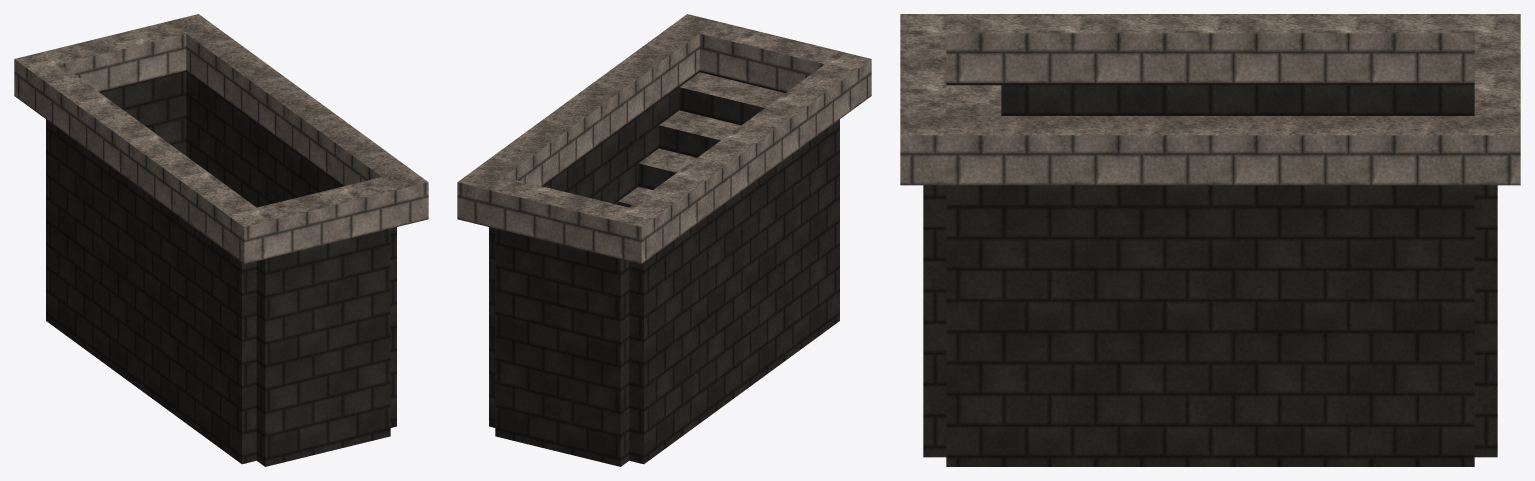
The model's file is stairs-down-deep.glb.
3 renders of one model, left to right at view 1: azimuth 30°, elevation 25°; view 2: azimuth 150°, elevation 25°; view 3: azimuth 270°, elevation 25°, orthographic. The views are drawn at different scales.
Parts seen in each view (by area): view 1: stairs-down-deep; view 2: stairs-down-deep; view 3: stairs-down-deep.
Boxes of the visible parts, x1,y1,x2,y2 form: stairs-down-deep: (14, 14, 428, 466); stairs-down-deep: (457, 14, 871, 466); stairs-down-deep: (900, 14, 1520, 466).
Size of the model in its own units: 1.25 by 1.64 by 2.7.
Materials: 4 (3 with a texture image).
